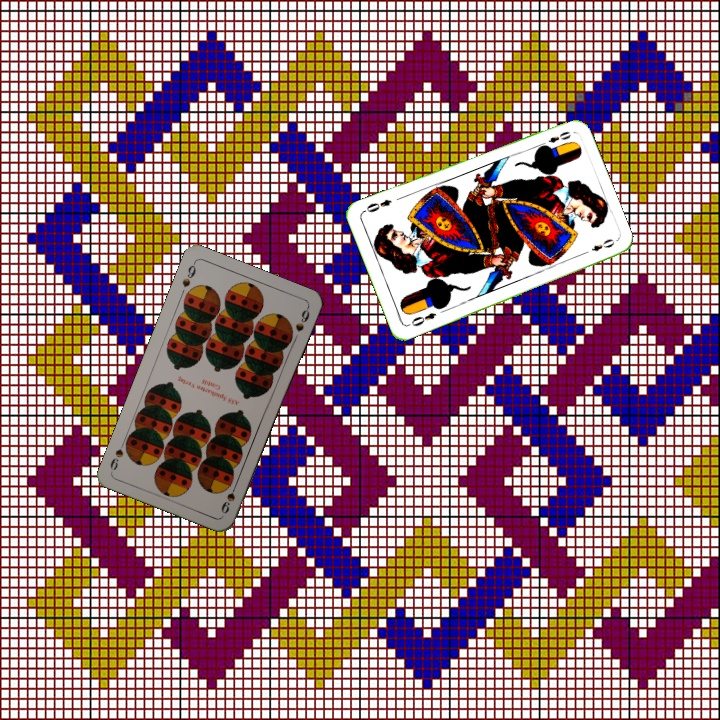EO: (535, 127, 574, 149), (404, 308, 439, 329)
S9: (217, 478, 240, 516), (178, 259, 198, 290)
